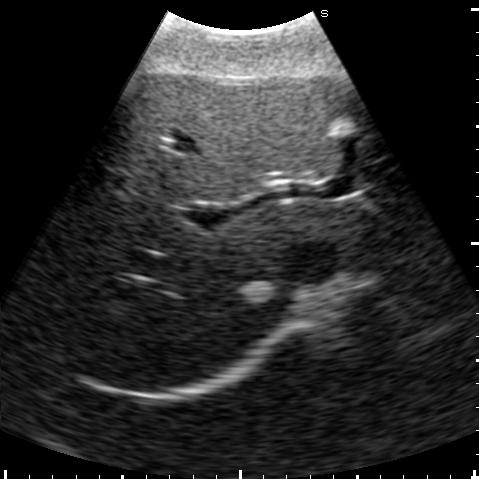IVC: (286, 241, 336, 284)
S1: (296, 205, 388, 257)
S2: (363, 192, 430, 225)
S3: (359, 137, 413, 198)
S4: (104, 73, 345, 201)
Tumor: (242, 283, 274, 305), (326, 118, 357, 137)
